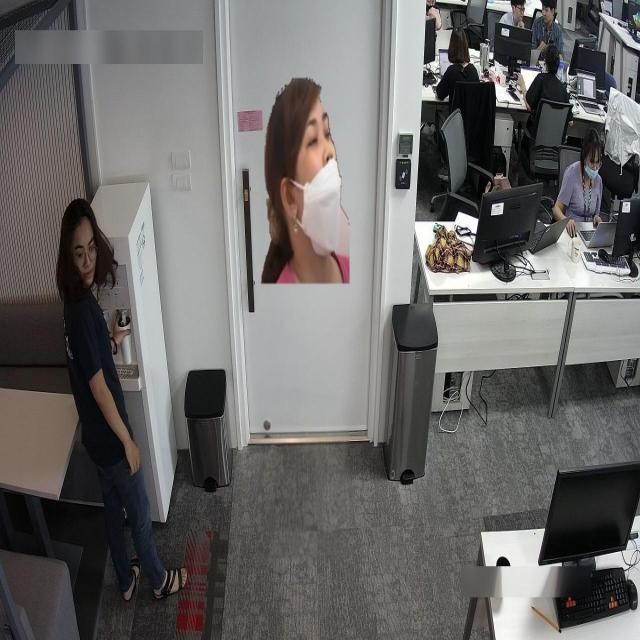hairnet: (286, 96, 342, 253)
